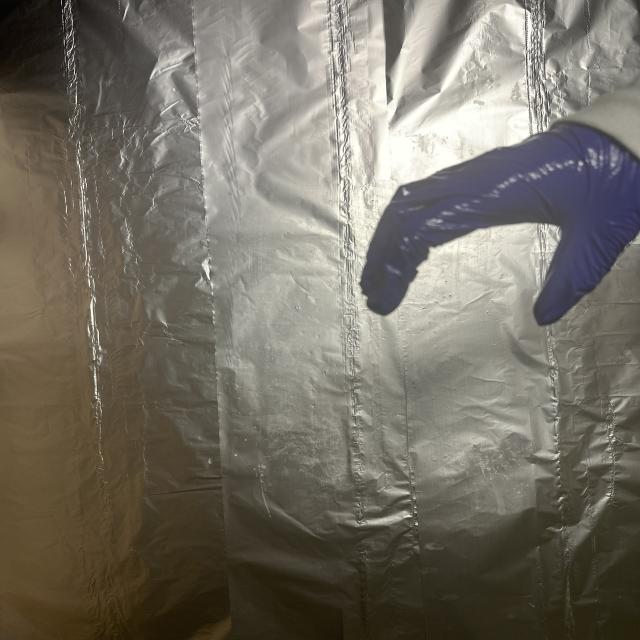gloves_contaminated: (361, 124, 640, 325)
